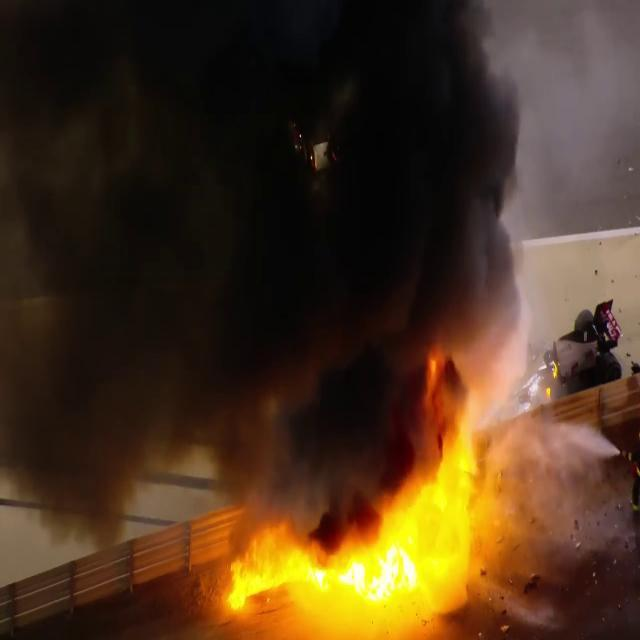Fire: (212, 413, 476, 631)
Smoke: (1, 1, 544, 508)
